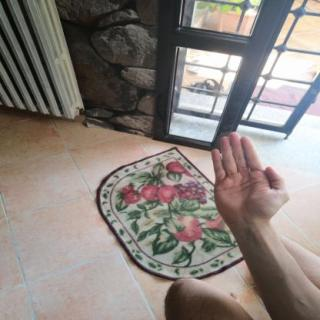SEEN: (200, 126, 296, 232)
